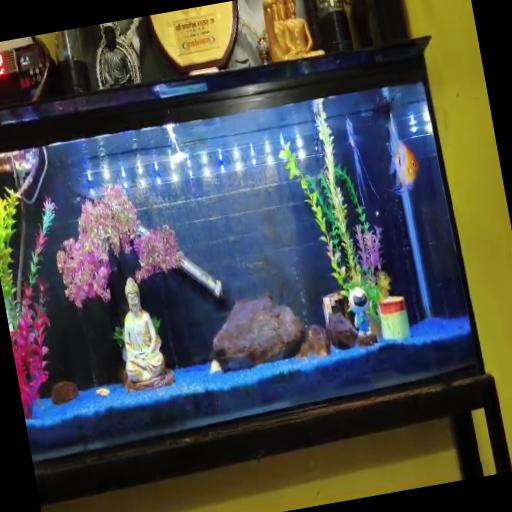Fish: (346, 118, 378, 208), (387, 114, 418, 195), (95, 388, 109, 396)
